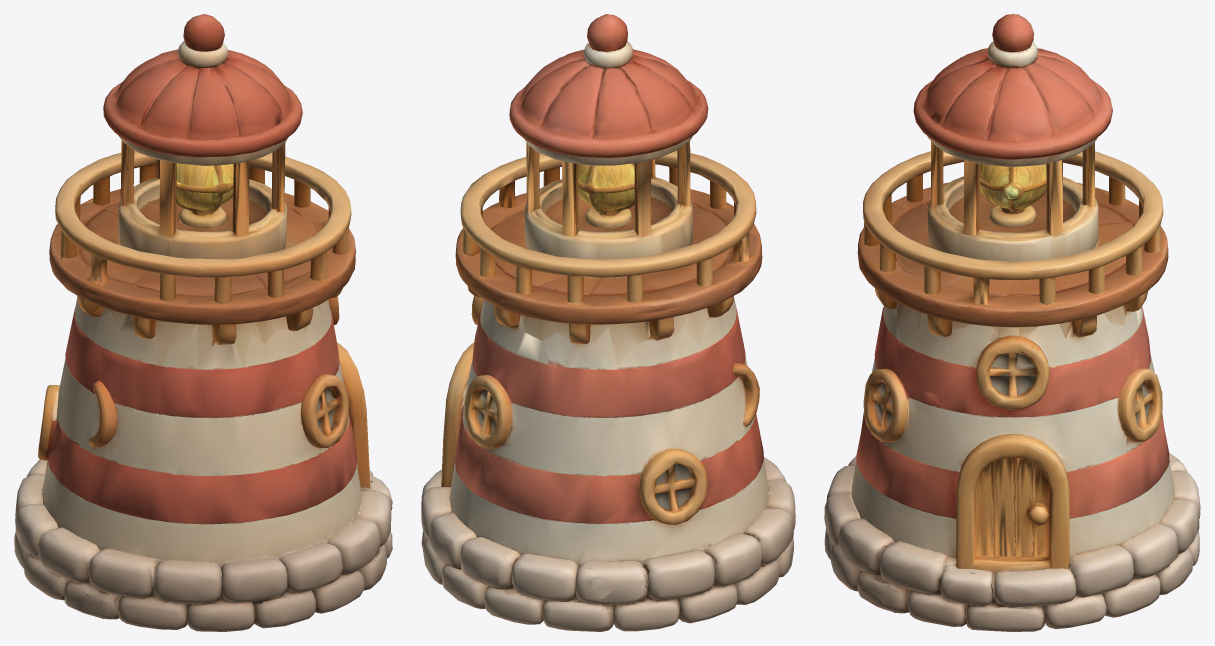
File: F22-west-cape-lighthouse.glb
3 renders of one model, left to right at view 1: azimuth 30°, elevation 25°; view 2: azimuth 150°, elevation 25°; view 3: azimuth 270°, elevation 25°, orthographic.
Visible parts, largest first — view 1: F22-west-cape-lighthouse; view 2: F22-west-cape-lighthouse; view 3: F22-west-cape-lighthouse.
Part boxes in pixels (box(x1,y1,x2,y2)): F22-west-cape-lighthouse: box(14, 14, 392, 631); F22-west-cape-lighthouse: box(421, 14, 795, 631); F22-west-cape-lighthouse: box(824, 14, 1200, 631).
Size of the model in its own units: 7.01 by 11.01 by 6.92.
1 material, 1 textured.
